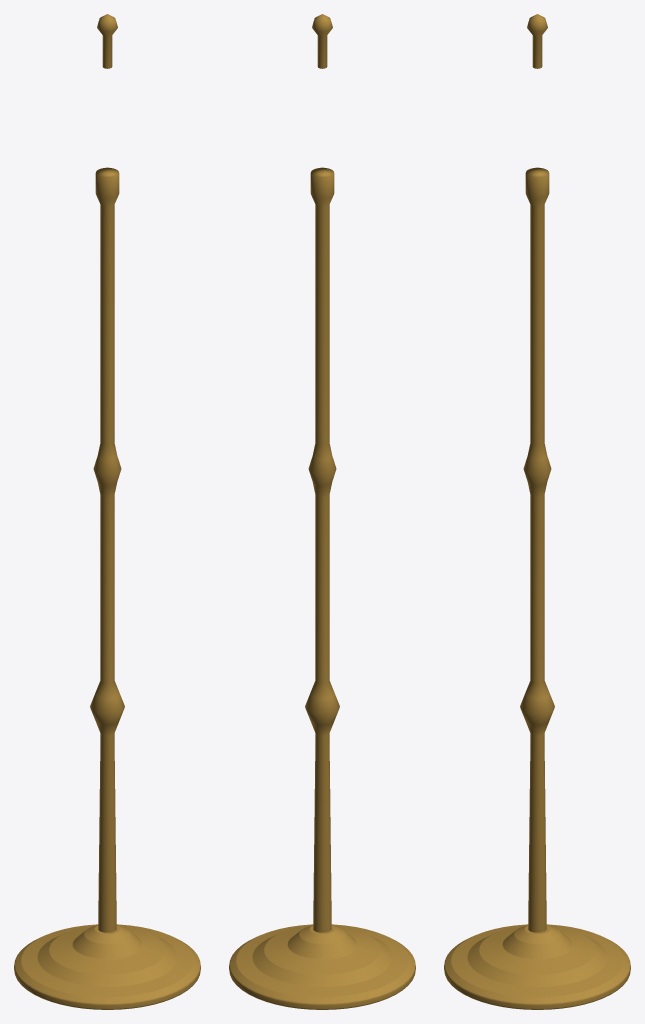
The model's file is floor_lamp.glb.
The picture shows the model from 3 angles, left to right: view 1: azimuth 30°, elevation 25°; view 2: azimuth 150°, elevation 25°; view 3: azimuth 270°, elevation 25°; orthographic projection.
Visible parts, largest first — view 1: Mesh_Stem, Mesh_Base, Mesh_Finial; view 2: Mesh_Stem, Mesh_Base, Mesh_Finial; view 3: Mesh_Stem, Mesh_Base, Mesh_Finial.
Part boxes in pixels (x1,y1,x2,y2): Mesh_Stem: [90, 167, 124, 932]; Mesh_Base: [14, 924, 200, 1009]; Mesh_Finial: [97, 14, 117, 68]; Mesh_Stem: [305, 167, 339, 932]; Mesh_Base: [229, 924, 415, 1009]; Mesh_Finial: [312, 14, 332, 68]; Mesh_Stem: [520, 167, 554, 932]; Mesh_Base: [444, 924, 630, 1009]; Mesh_Finial: [527, 14, 547, 68].
Bounding box in the file's own units: 0.32 × 1.81 × 0.32.
